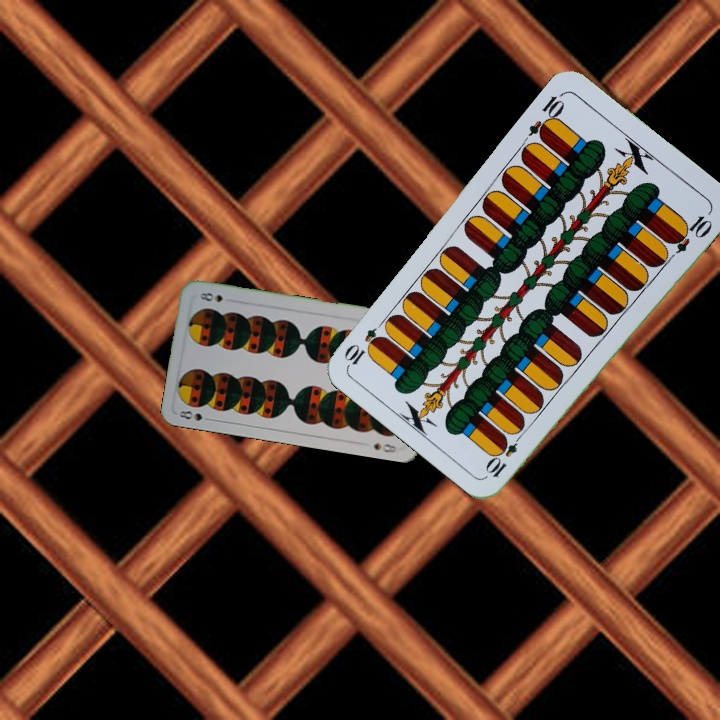E10: (524, 88, 568, 143), (483, 427, 527, 480)
S8: (175, 406, 215, 423)
